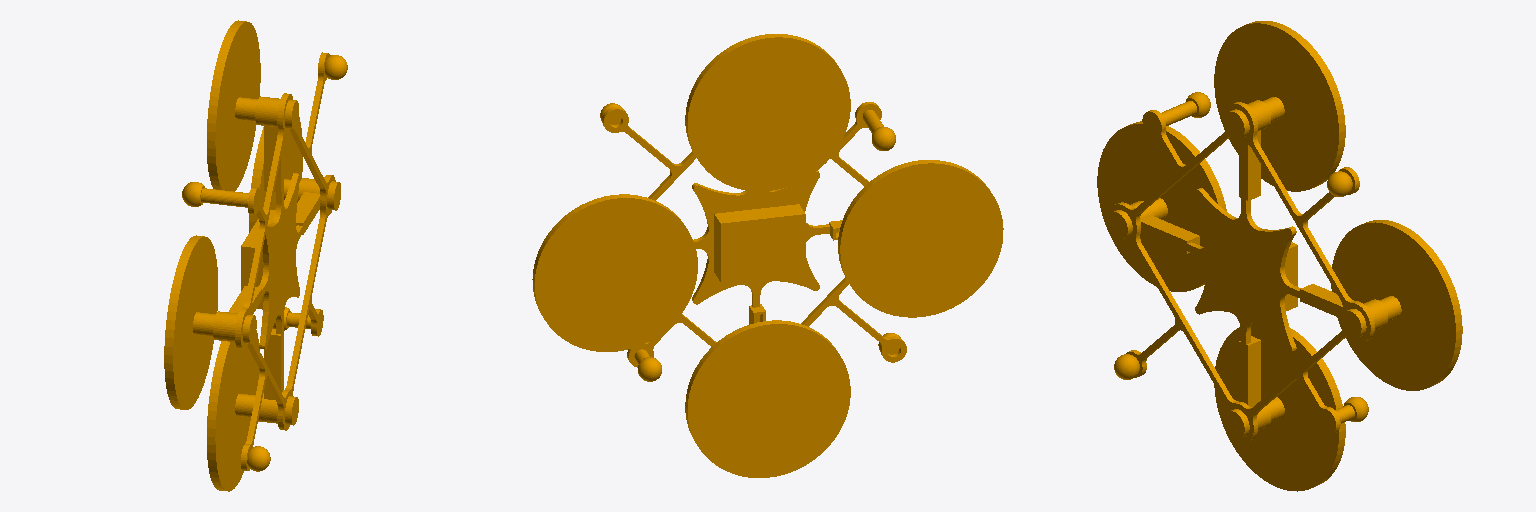
URDF robot description (crazyflie):
<?xml version="1.0" ?>
<robot xmlns="http://drake.mit.edu"
 xmlns:xsi="http://www.w3.org/2001/XMLSchema-instance"
 name="crazyflie">
   <material name="Brown">
     <color rgba="83./255. 53./255. 10./255."/>
   </material>
   <material name="White">
     <color rgba="1 1 1"/>
   </material>
   <material name="Grey">
     <color rgba=".3 .3 .3"/>
   </material>
   <material name="Red">
     <color rgba="1 0 0"/>
   </material>
   <material name="Blue">
     <color rgba="0 0 1"/>
   </material>

  <link name="base_link">
    <inertial>
      <mass value="0.03337"/>
      <origin xyz="0 0 0"/>
      <inertia ixx="1.1109e-04" ixy="1.5571e-06" ixz="0" iyy="5.1471e-05" iyz="0" izz="7.6362e-06"/>
    </inertial>
    <visual>
      <origin rpy="1.570796326794897 0 -2.356194490192345" xyz="0 0 -.01"/>
      <geometry>
        <mesh filename="mesh/crazyflie.obj" scale=".001"/>
      </geometry>
      <material name="Blue"/>
    </visual>
    <collision>
      <origin rpy="0 0 0" xyz="0 0 0"/>
      <geometry>
        <box size="0.017 0.017 0.006"/>
      </geometry>
    </collision>
  </link>

  <force_element name="prop1">
    <propellor lower_limit="2.8" upper_limit="40.87" scale_factor_thrust="0.004921945716505" scale_factor_moment="-7.420870656321504e-07" visual_geometry="false">
      <parent link="base_link"/>
      <origin xyz="0.046 0 0"/>
      <axis xyz="0 0 1"/>
    </propellor>
  </force_element>
  <force_element name="prop2">
    <propellor lower_limit="2.8" upper_limit="40.87" scale_factor_thrust="0.004921945716505" scale_factor_moment="7.420870656321504e-07" visual_geometry="false">
      <parent link="base_link"/>
      <origin xyz="0 -0.046 0"/>
      <axis xyz="0 0 1"/>
    </propellor>
  </force_element>
  <force_element name="prop3">
    <propellor lower_limit="2.8" upper_limit="40.87" scale_factor_thrust="0.004921945716505" scale_factor_moment="-7.420870656321504e-07" visual_geometry="false">
      <parent link="base_link"/>
      <origin xyz="-0.046 0 0"/>
      <axis xyz="0 0 1"/>
    </propellor>
  </force_element>
  <force_element name="prop4">
    <propellor lower_limit="2.8" upper_limit="40.87" scale_factor_thrust="0.004921945716505" scale_factor_moment="7.420870656321504e-07" visual_geometry="false">
      <parent link="base_link"/>
      <origin xyz="0 0.046 0"/>
      <axis xyz="0 0 1"/>
    </propellor>
  </force_element>

</robot>

--- Render facts (derived) ---
The picture shows the robot from 3 angles, left to right: view 1: azimuth 30°, elevation 25°; view 2: azimuth 150°, elevation 25°; view 3: azimuth 270°, elevation 25°; orthographic projection.
Model crazyflie with 1 links and 0 joints (none), rooted at base_link, posed every joint at zero.
Links seen in each view (by area): view 1: base_link; view 2: base_link; view 3: base_link.
Link boxes in pixels (bbox=[...]): base_link: bbox=[164, 20, 347, 491]; base_link: bbox=[532, 34, 1003, 477]; base_link: bbox=[1097, 21, 1462, 491].
Size in the robot's own frame: 0.0952 by 0.0951 by 0.1321 metres.
1 mesh visuals loaded from 1 distinct referenced files (1 OBJ).
